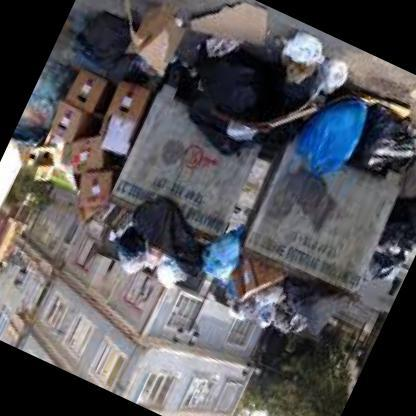Garbage: (2, 0, 183, 232), (219, 248, 368, 366), (82, 205, 224, 311), (178, 29, 292, 161), (252, 18, 370, 127), (0, 51, 88, 178), (181, 0, 299, 90), (288, 73, 373, 188), (340, 81, 415, 204), (109, 189, 198, 285), (358, 175, 415, 306), (185, 218, 253, 300), (270, 280, 345, 344)
